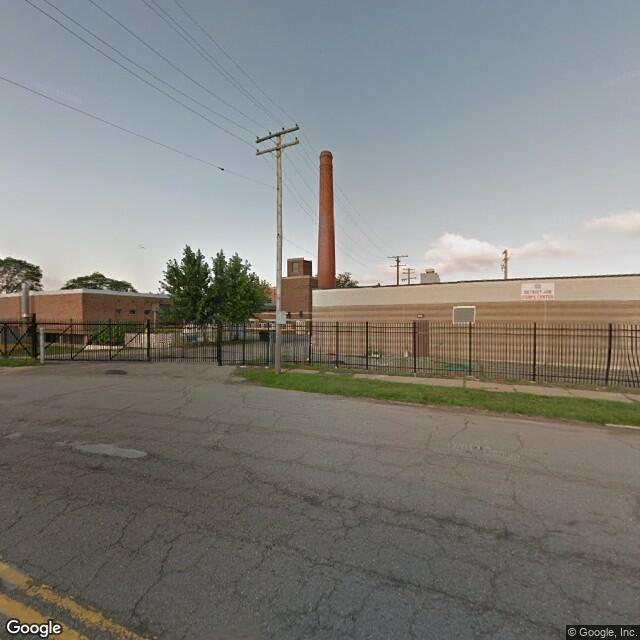litter: (403, 351, 409, 357), (333, 363, 338, 370)
